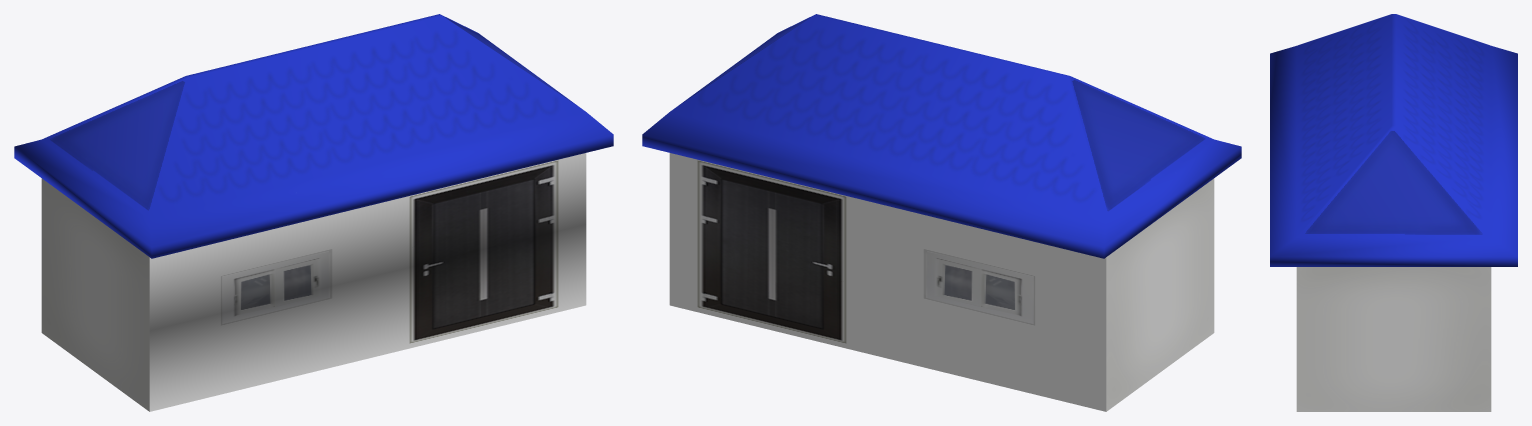
Rendered from house_3.FBX.
The picture shows the model from 3 angles, left to right: view 1: azimuth 30°, elevation 25°; view 2: azimuth 150°, elevation 25°; view 3: azimuth 270°, elevation 25°; orthographic projection. The views are drawn at different scales.
Visible parts, largest first — view 1: Box001; view 2: Box001; view 3: Box001.
Part boxes in pixels (<box>): Box001: <box>14,14,613,411</box>; Box001: <box>642,14,1241,411</box>; Box001: <box>1270,14,1517,411</box>.
Bounding box in the file's own units: 74.32 × 42.01 × 38.34.
